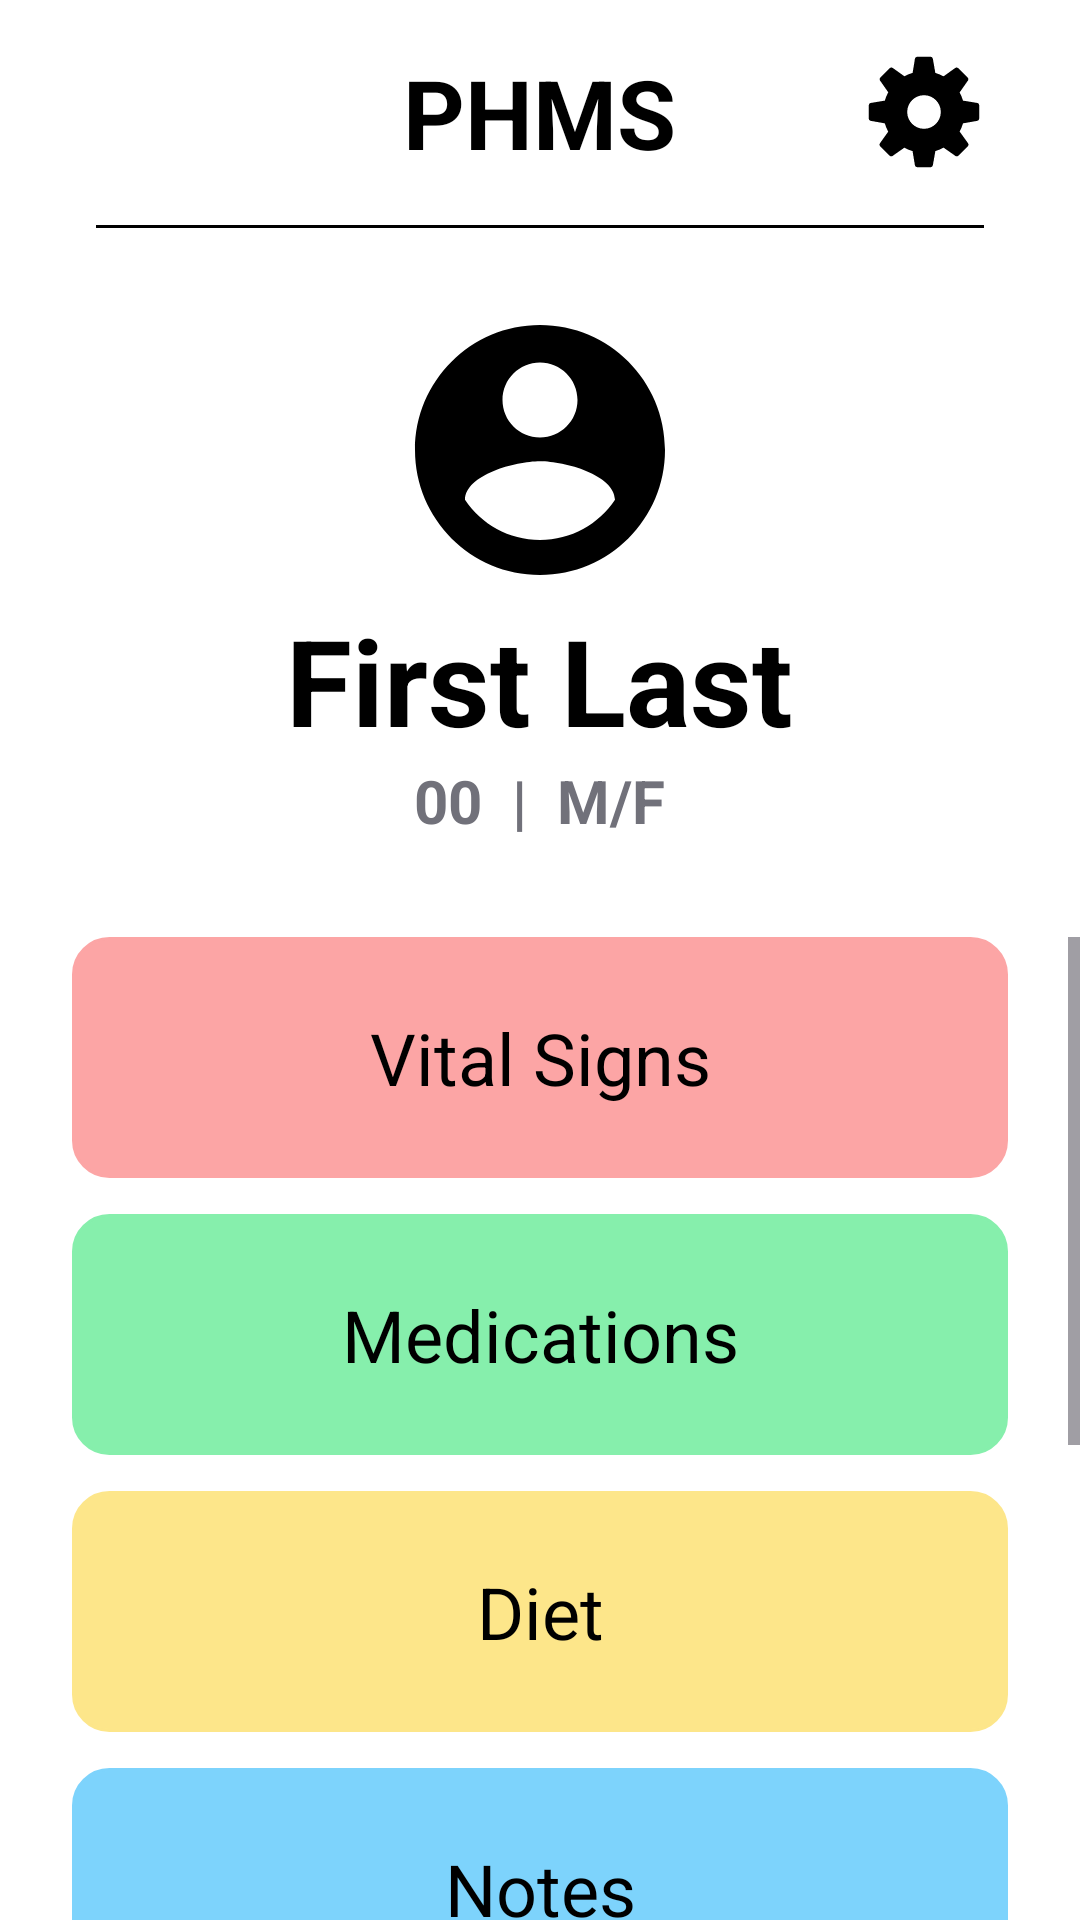

Screen size 1080×1920. Icon name, then its box in pixels as region(x1, y1, x2, y2):
account: region(415, 325, 665, 575)
settings: region(868, 56, 980, 168)
